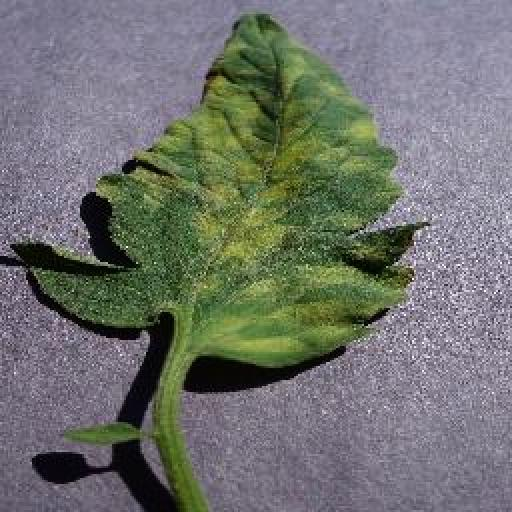disease_tomato: (10, 12, 431, 370)
